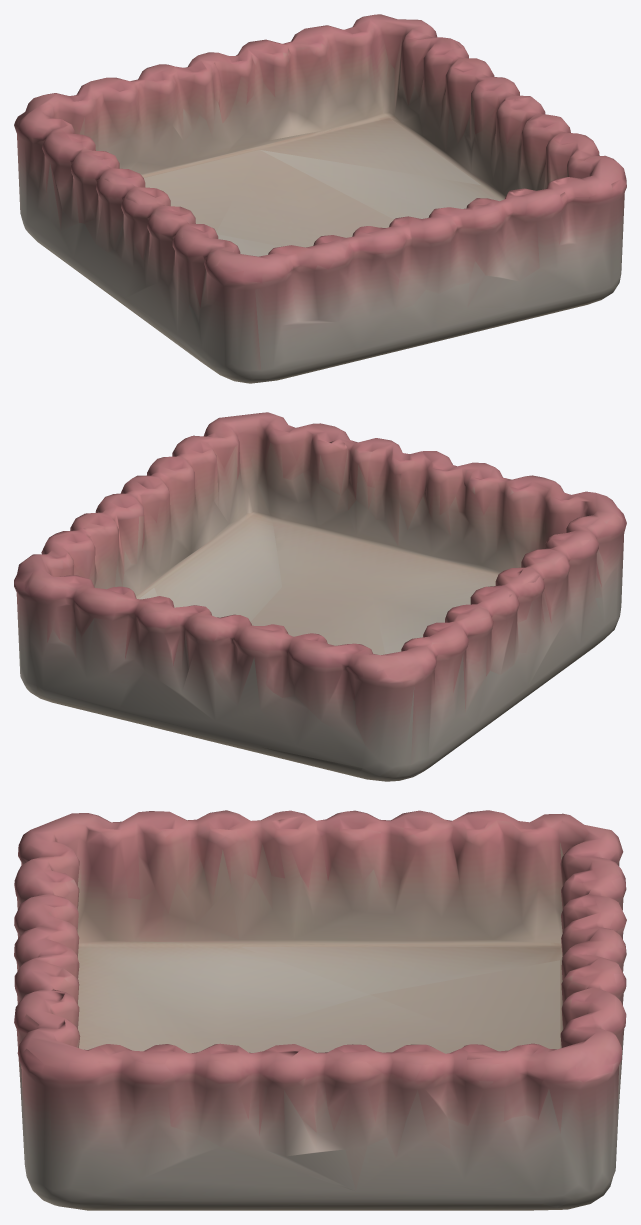
File: tray_dessert.fbx
3 views of the same model, one above another, from view 1: azimuth 30°, elevation 25°; view 2: azimuth 150°, elevation 25°; view 3: azimuth 270°, elevation 25° (orthographic). The views are drawn at different scales.
Visible parts, largest first — view 1: tray_dessert; view 2: tray_dessert; view 3: tray_dessert.
Boxes of the visible parts, x1=… form: tray_dessert: x1=14, y1=14, x2=626, y2=383; tray_dessert: x1=14, y1=412, x2=626, y2=781; tray_dessert: x1=14, y1=810, x2=626, y2=1210.
Bounding box in the file's own units: 99.93 × 29.97 × 100.
Materials: 1 (1 with a texture image).
